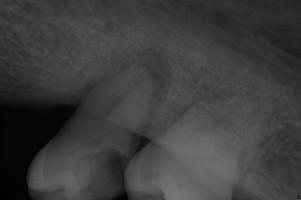Dental Caries: (62, 47, 175, 116)
